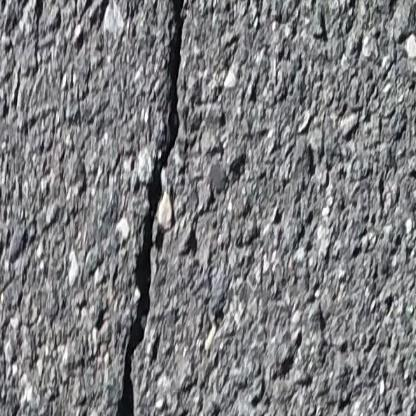Cracks: (114, 0, 190, 416)
